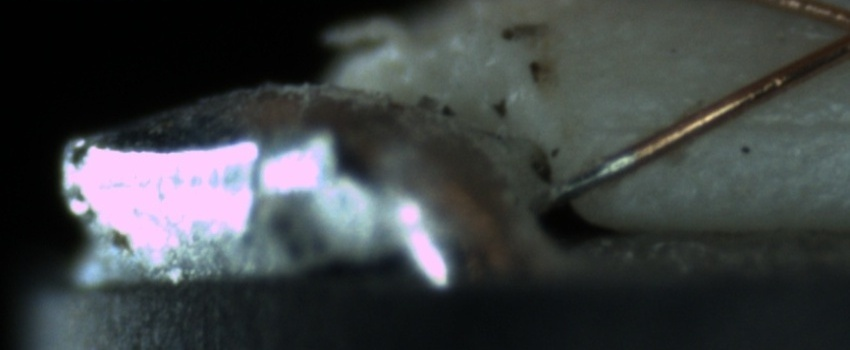CL: (806, 1, 850, 64)
DL: (618, 97, 849, 153)
TS: (552, 150, 638, 201)
